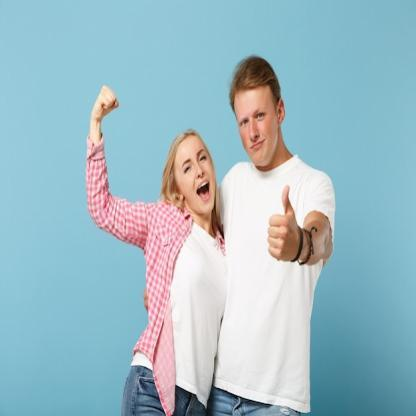thumb_up: (266, 180, 300, 266)
